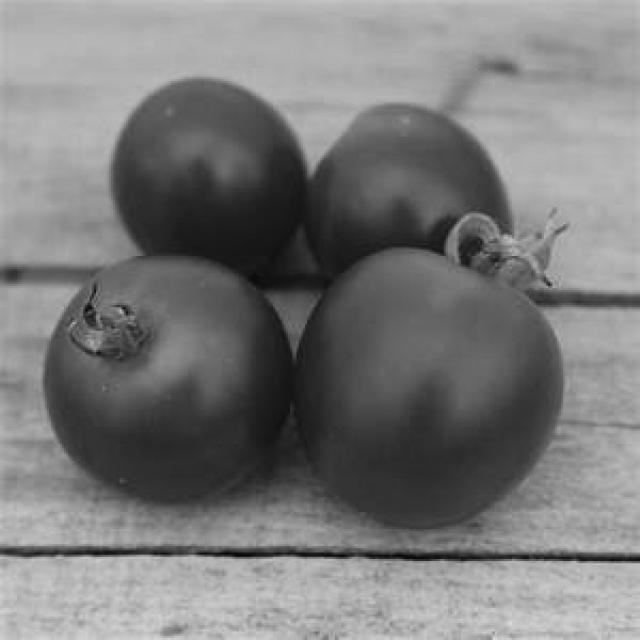Fresh_tomato: (312, 247, 563, 546), (31, 252, 281, 489), (328, 88, 522, 292), (114, 87, 301, 276)
